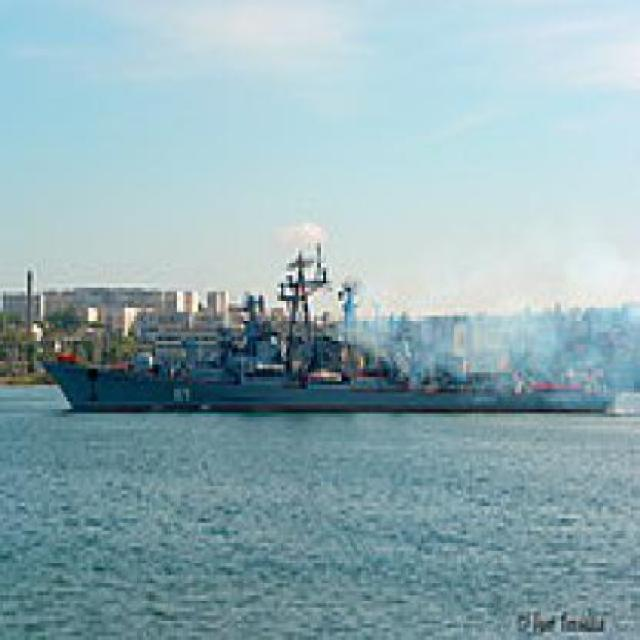warship2: (38, 223, 638, 414)
